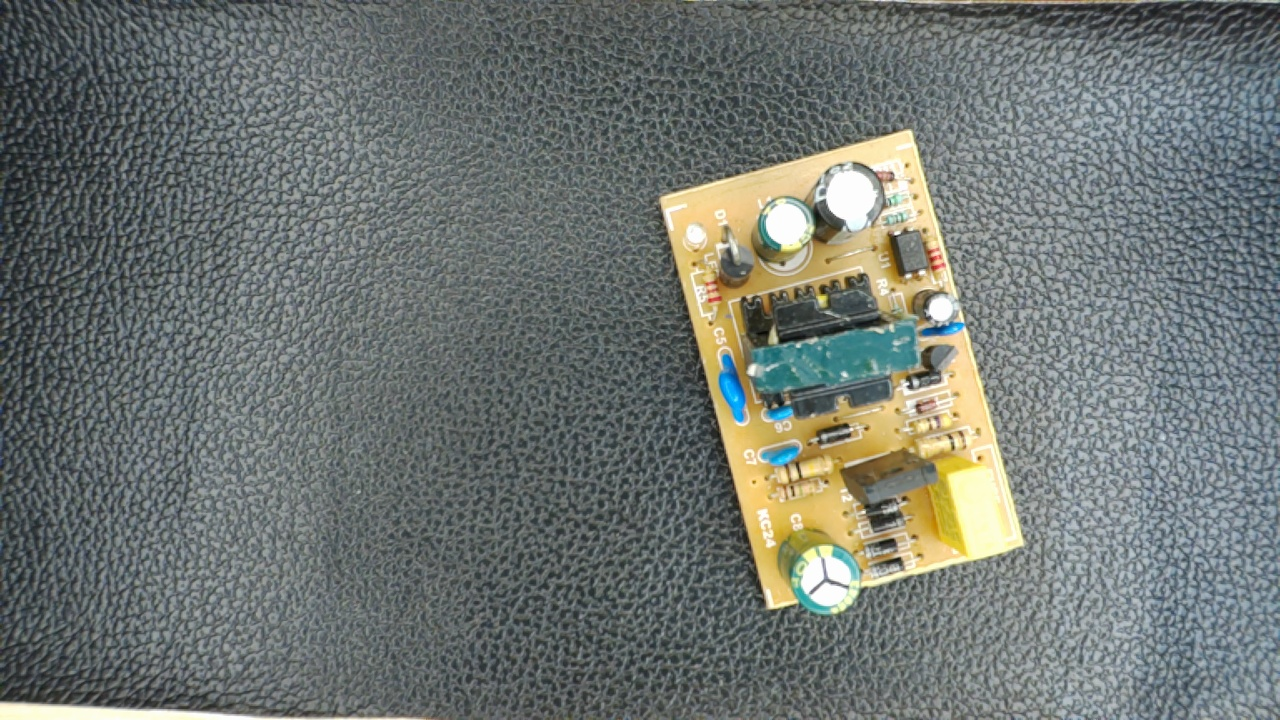hv_capacitor: (774, 530, 863, 617)
mov: (711, 347, 752, 426)
optocoupler: (888, 222, 936, 284)
